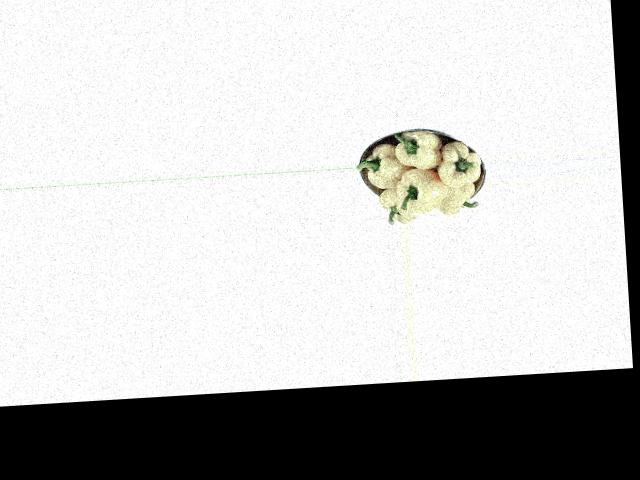bell_pepper: (374, 182, 418, 224)
